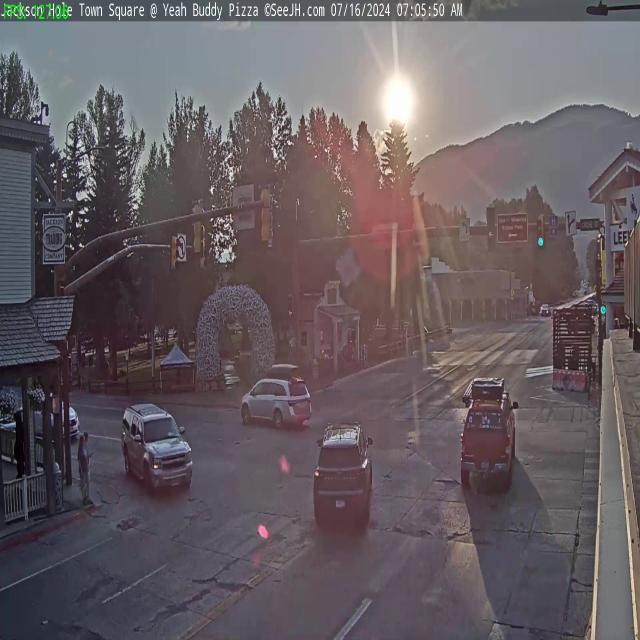person: (78, 430, 89, 506)
suv: (310, 422, 376, 536), (120, 400, 193, 496)
traffic light: (260, 184, 274, 244), (190, 199, 204, 257), (487, 206, 496, 251), (536, 214, 546, 248), (170, 235, 179, 272)
truck: (459, 377, 518, 499)
van: (240, 364, 312, 432)
